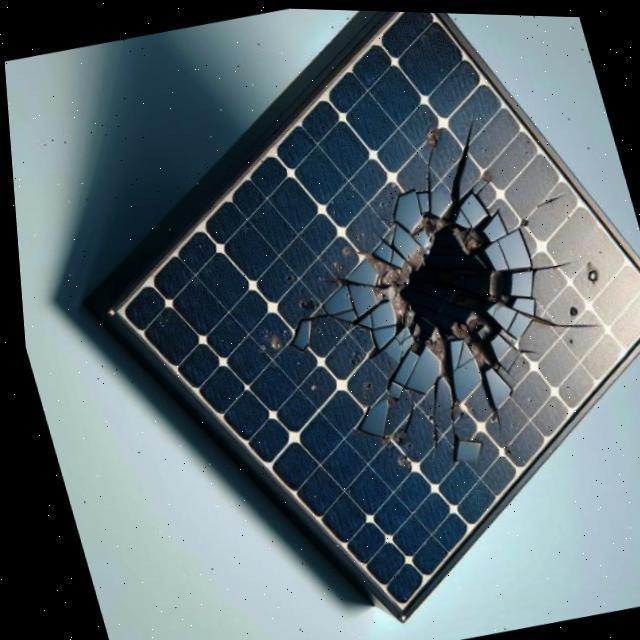Anomaly Solar Panel: (100, 9, 640, 612)
Structural Damage: (263, 150, 592, 493), (506, 304, 600, 336), (446, 107, 477, 199), (424, 377, 435, 459), (527, 256, 570, 273), (533, 189, 566, 207), (422, 143, 433, 190)
